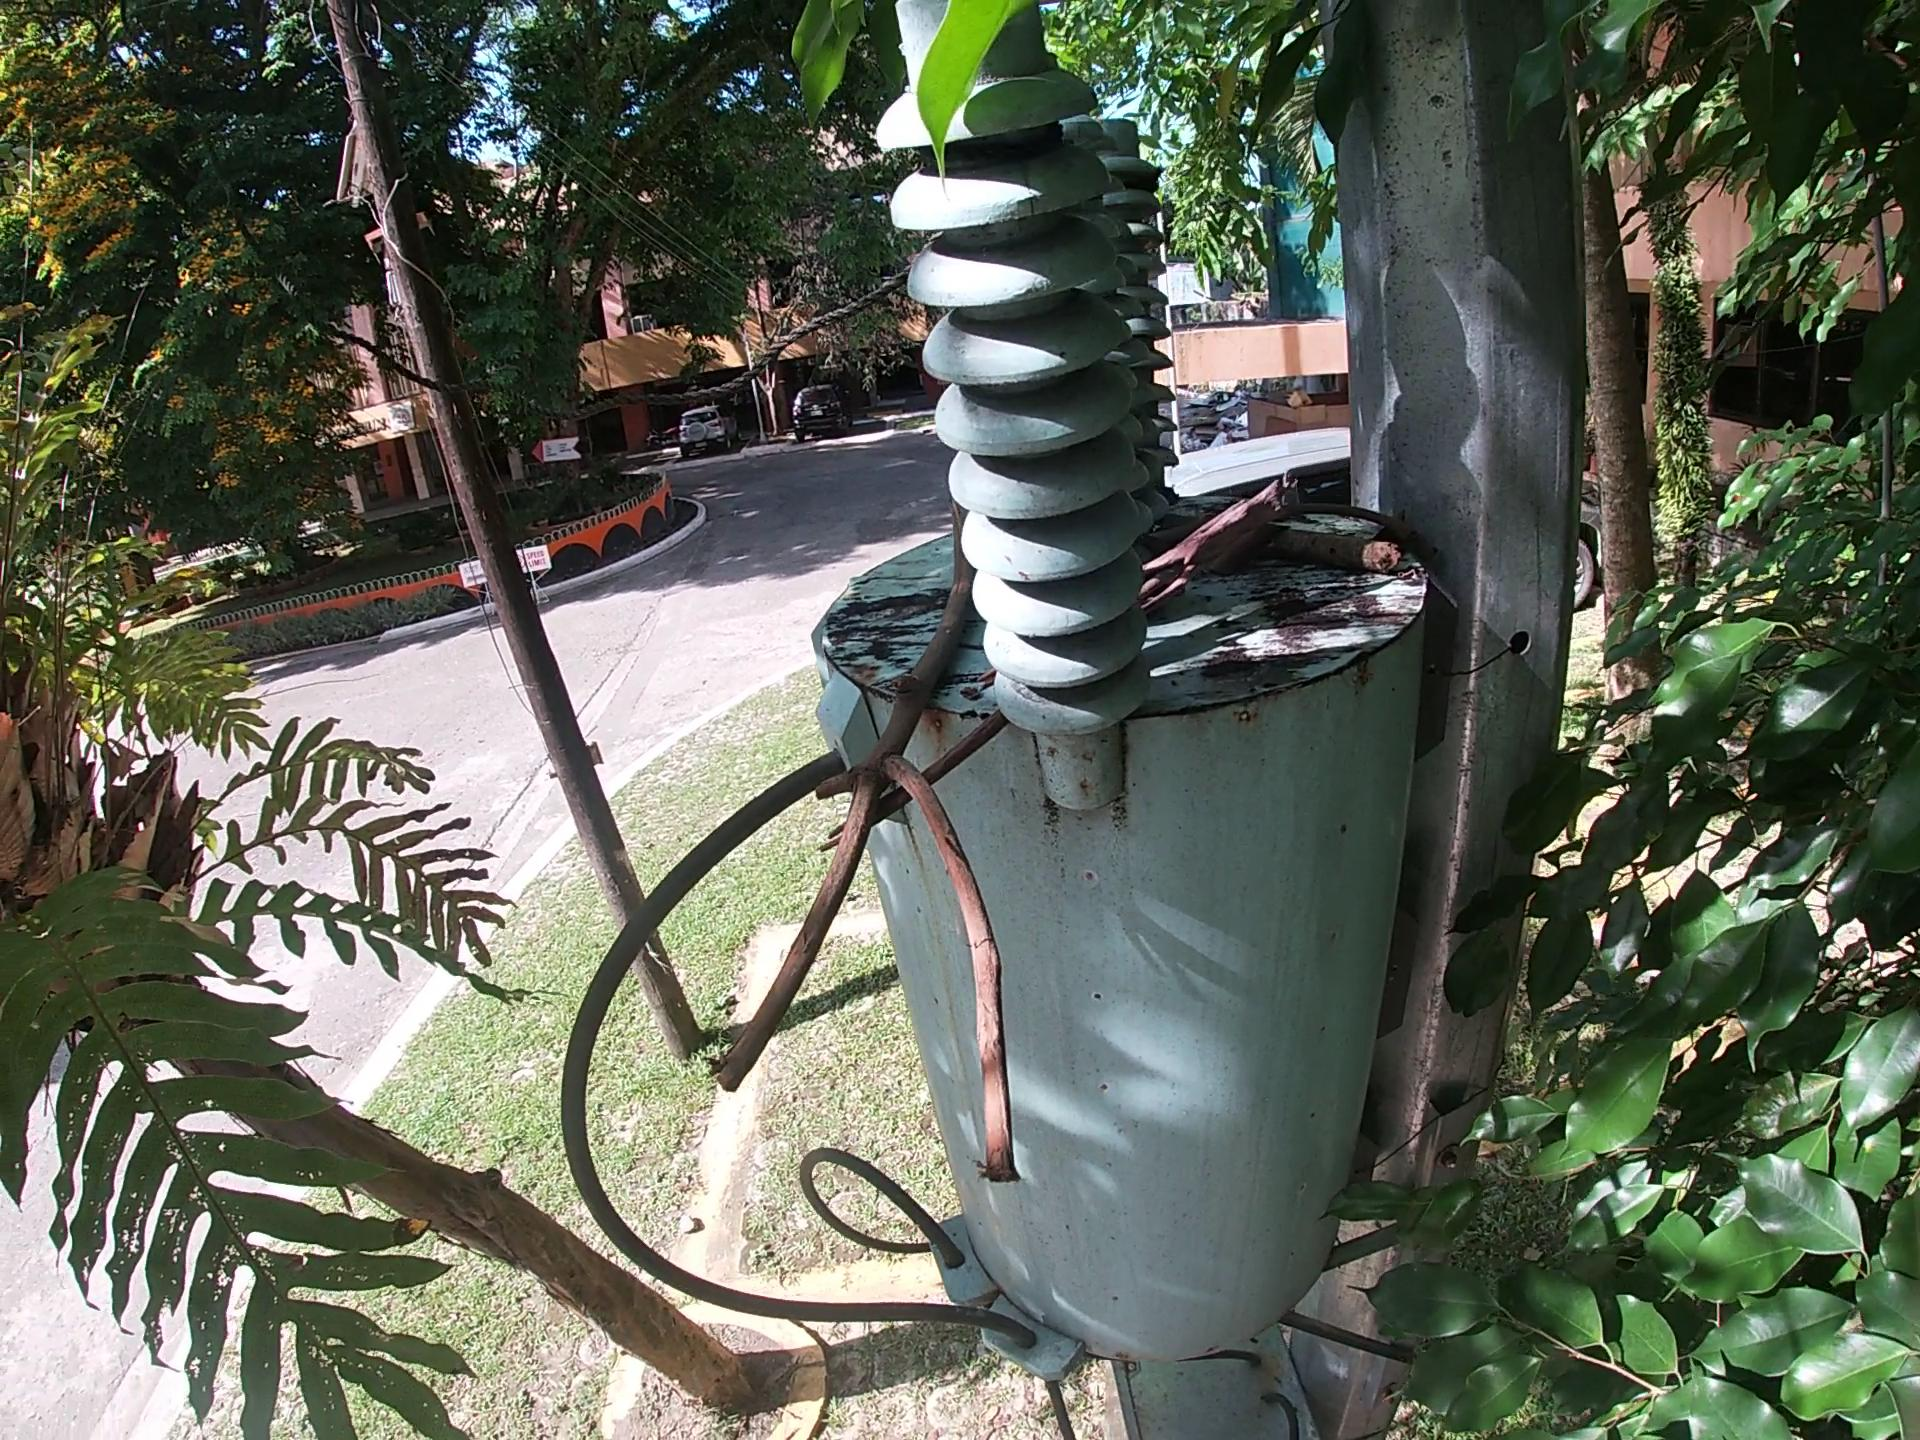tree branch: (724, 492, 1054, 1196), (816, 720, 1013, 867), (1147, 473, 1314, 607), (1247, 532, 1432, 570), (850, 628, 986, 666), (1293, 511, 1424, 534), (1140, 505, 1223, 538), (974, 663, 998, 700)
